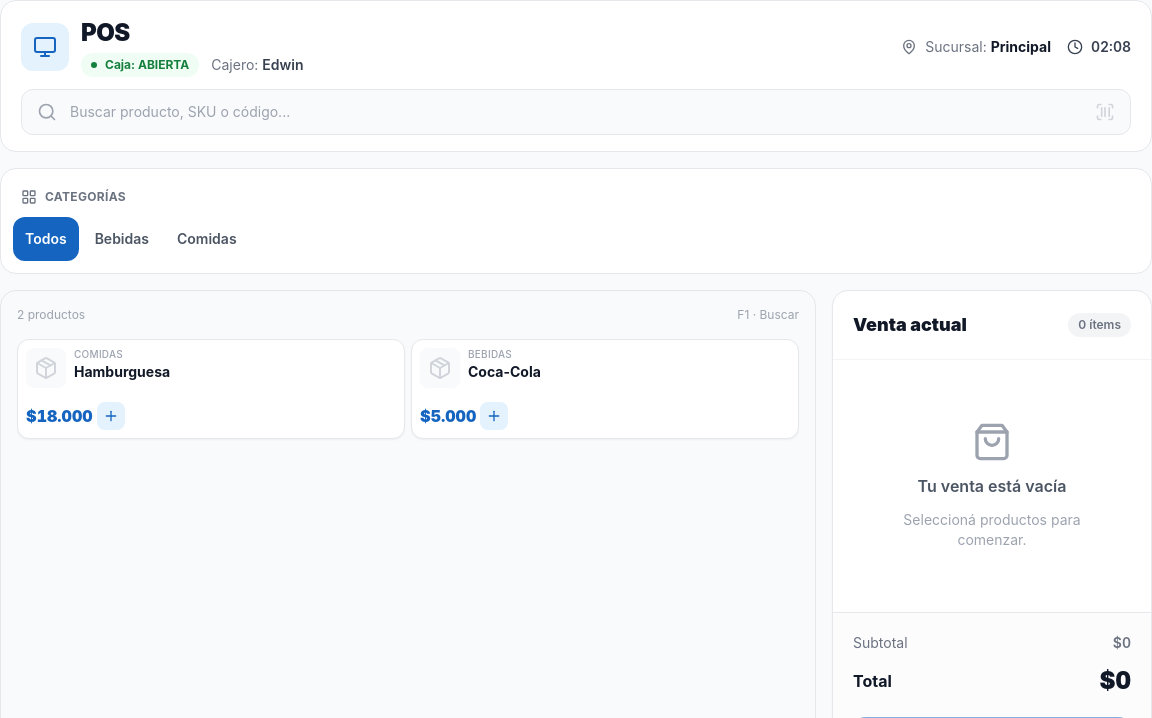
Test: PosDeli catalog request › filters categories and searches locally without losing the category list or returning favorites for no matches
Expected: the text "Hamburguesa" is shown, 74,363 -> 170,380
Click the button "Bebidas" at (122, 239), box 83,217 -> 161,261
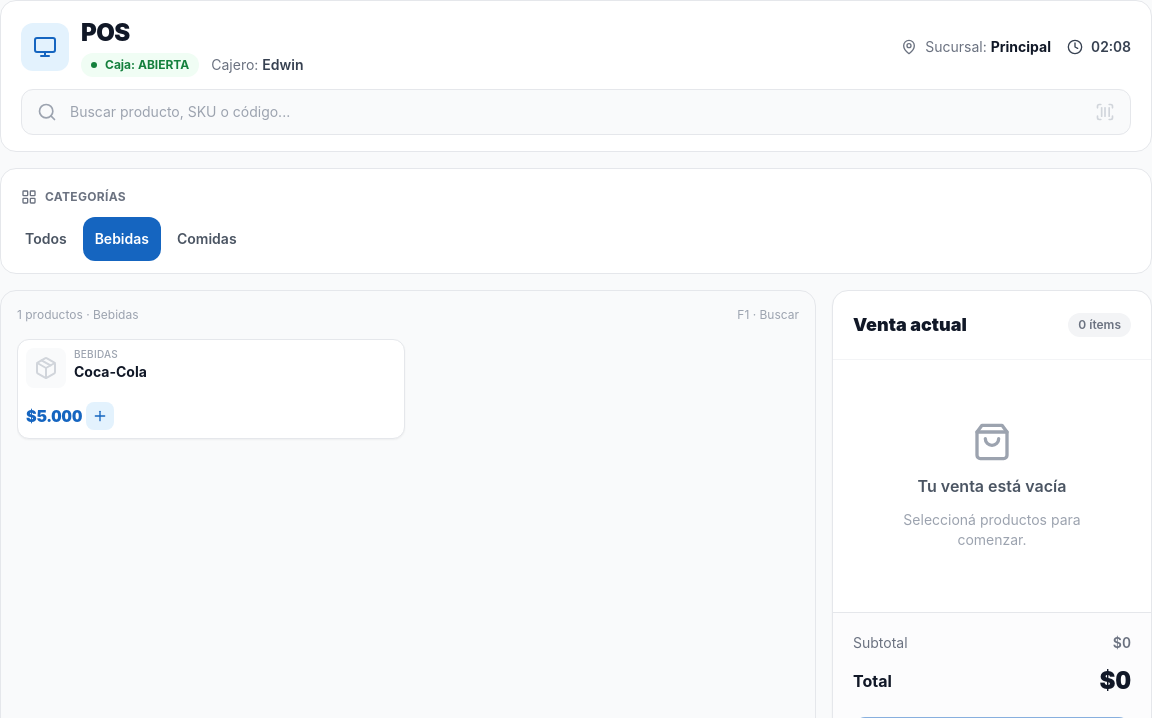
Expected: the text "Coca-Cola" is shown, 74,363 -> 147,380
Now the button "Hamburguesa" is gone
Click the button "Todos" at (46, 239), box 13,217 -> 79,261
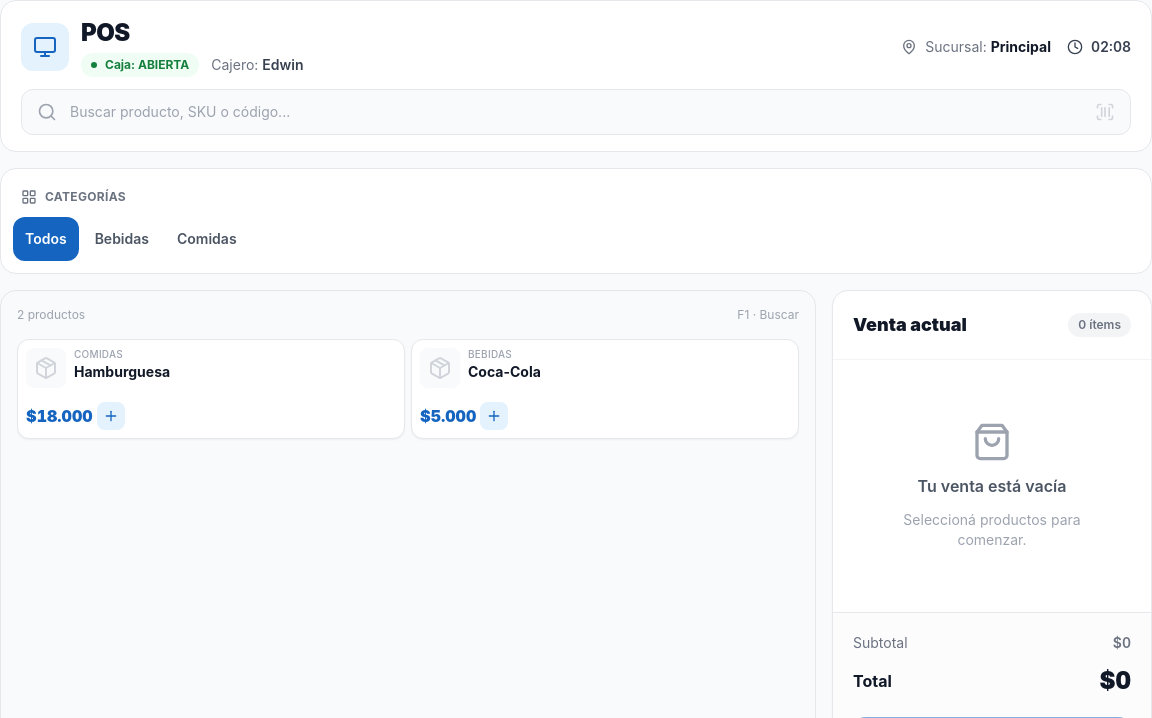
Type "HAM-1" into the field labelled "Buscar producto" at (576, 112), box 21,89 -> 1131,135
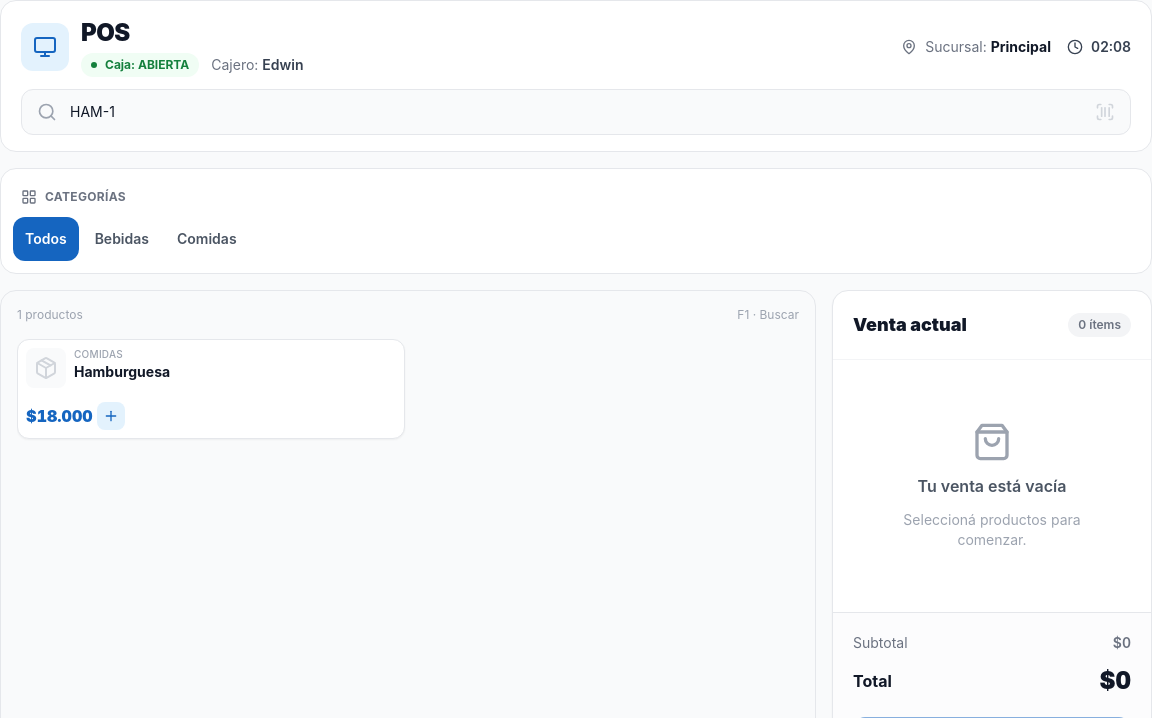
Expected: the button "Bebidas" is shown, 83,217 -> 161,261
Now the text "Hamburguesa" is shown, box 74,363 -> 170,380
Now the button "Coca-Cola" is gone
Replace the text in the field named "Buscar producto" with "770123" at (576, 112), box 21,89 -> 1131,135
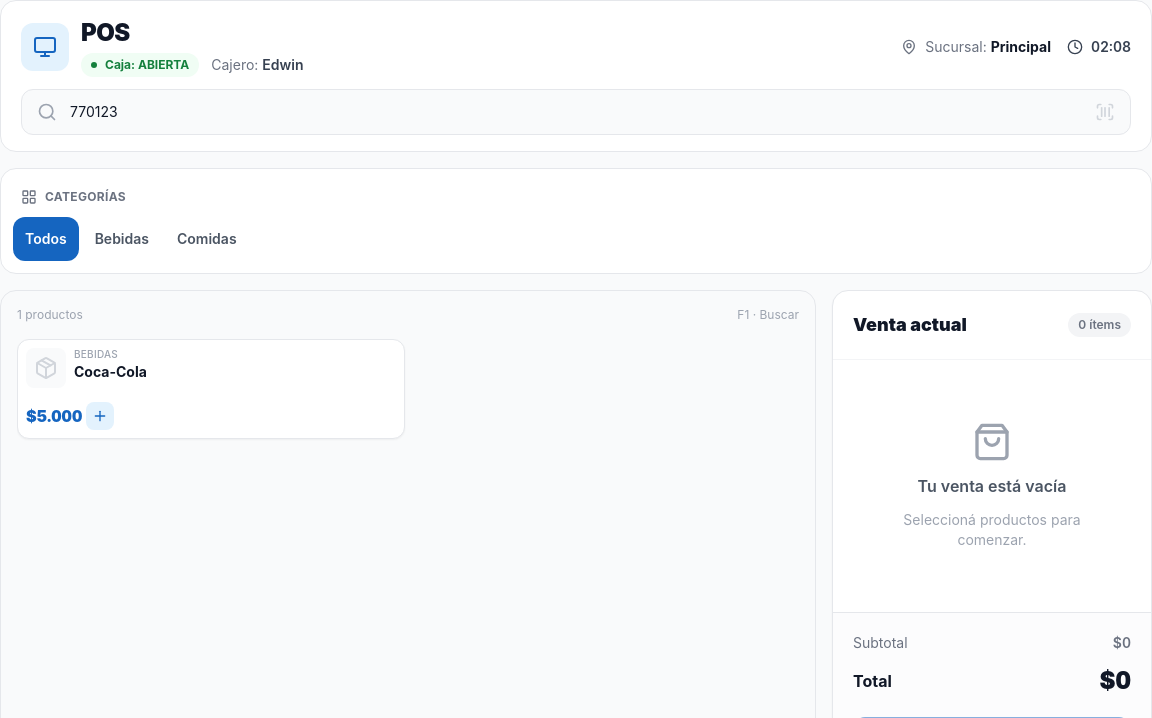
Now the text "Coca-Cola" is shown, box 74,363 -> 147,380
Replace the text in the field named "Buscar producto" with "inexistente" at (576, 112), box 21,89 -> 1131,135
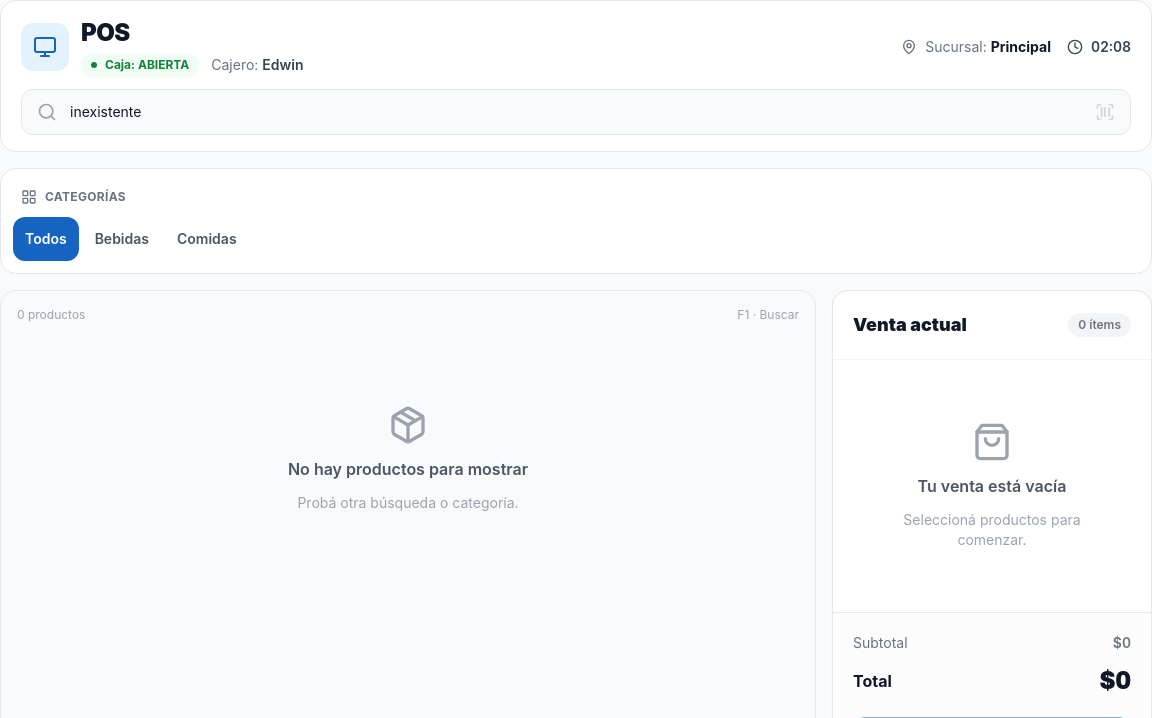
Now the text "No hay productos para mostrar" is shown, box 288,457 -> 528,481
